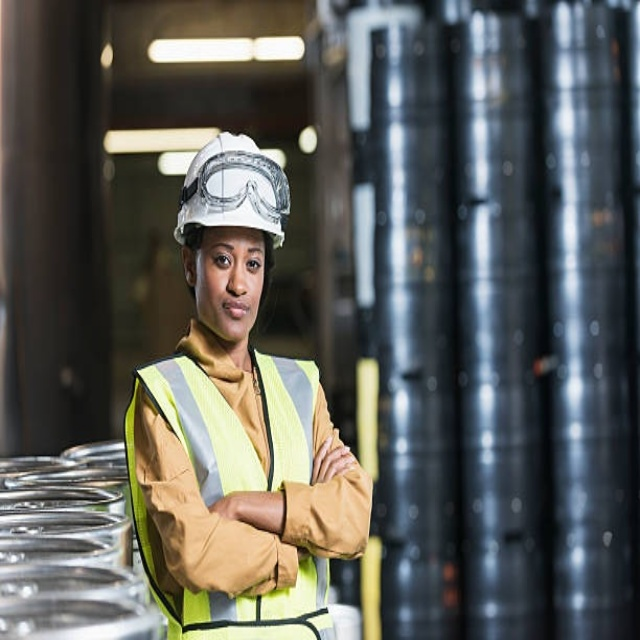Sin_gafas: (205, 238, 262, 278)
Sin_guantes: (311, 434, 358, 486)
Sin_mascara: (220, 296, 248, 336)
